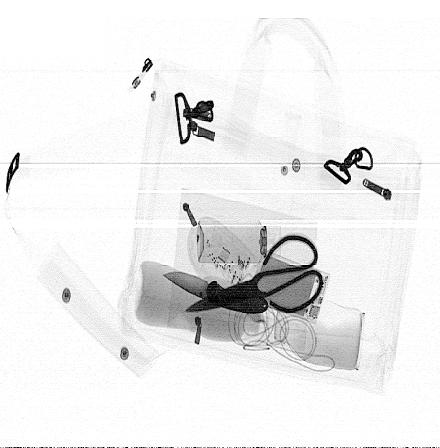Knife: (163, 269, 270, 316)
Powerbank: (245, 247, 332, 328)
Scissors: (183, 234, 324, 315)
Sprayer: (196, 220, 282, 263)
